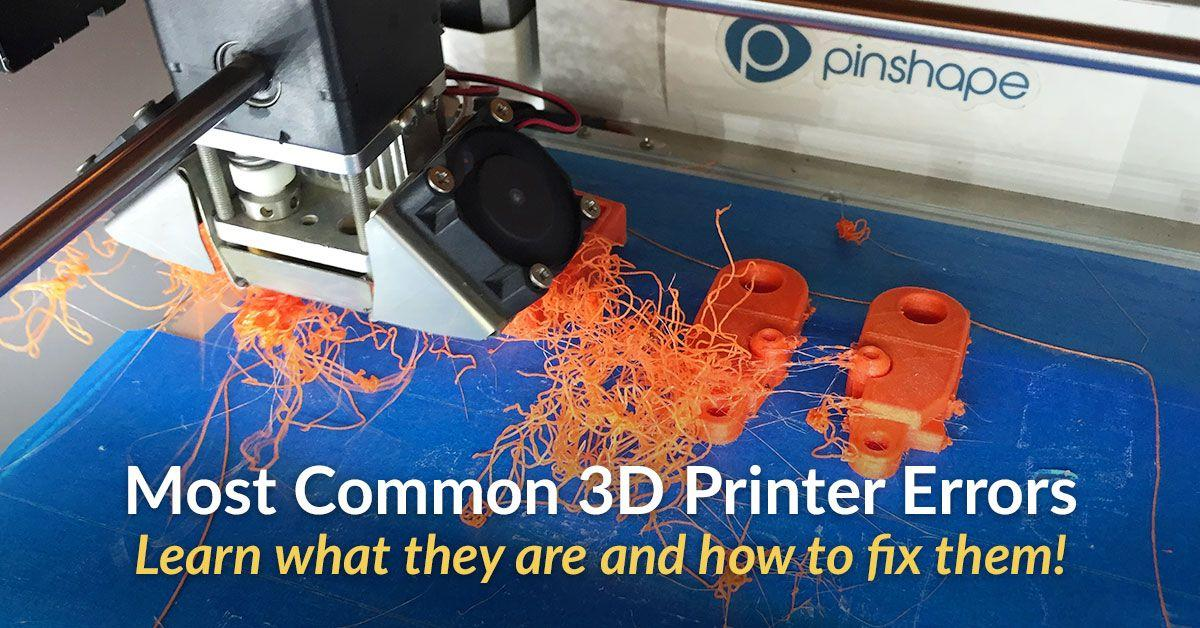Printing-Artifact: (510, 264, 749, 472), (199, 303, 378, 442), (833, 215, 875, 245)
